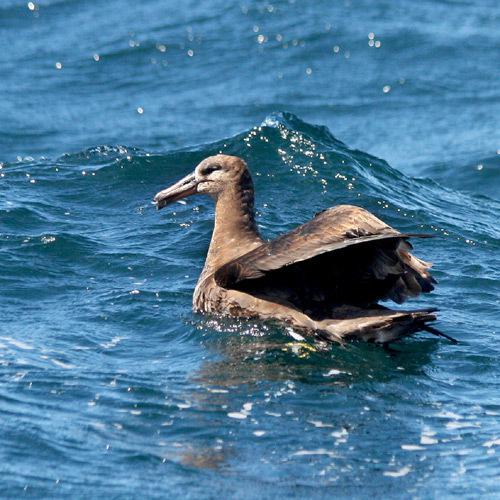001.Black_footed_Albatross: (155, 153, 455, 345)
